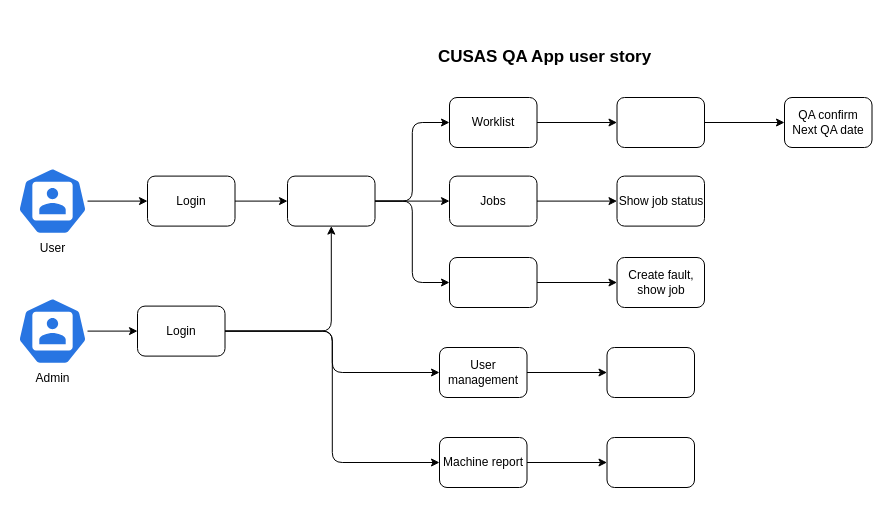
Image size: 890x505. Some labels were removed from this diagram. Here are the shapes that lost their labels. From the top down, the box of each, then its label:
(616, 96, 704, 148): QA form
(286, 175, 375, 226): Index page
(448, 256, 537, 308): Report Fault
(606, 346, 694, 398): Change user location
(606, 436, 694, 488): downlaod machine report
